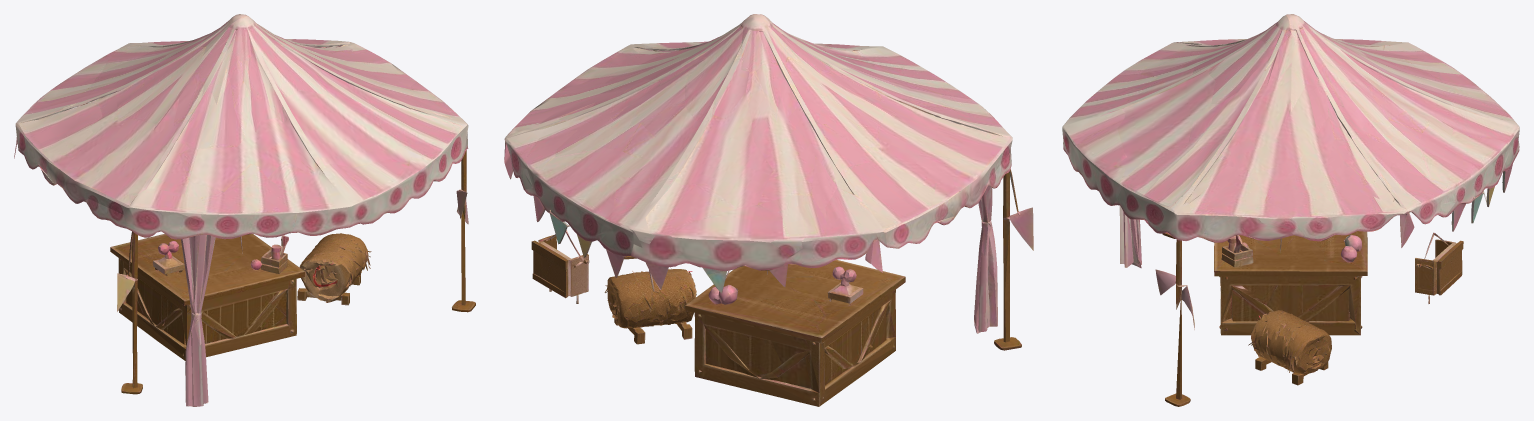
The model's file is fair_tent.glb.
3 views of the same model, side by side, from view 1: azimuth 30°, elevation 25°; view 2: azimuth 150°, elevation 25°; view 3: azimuth 270°, elevation 25° (orthographic). The views are drawn at different scales.
Size of the model in its own units: 1.81 by 1.44 by 1.9.
Materials: 1 (1 with a texture image).
